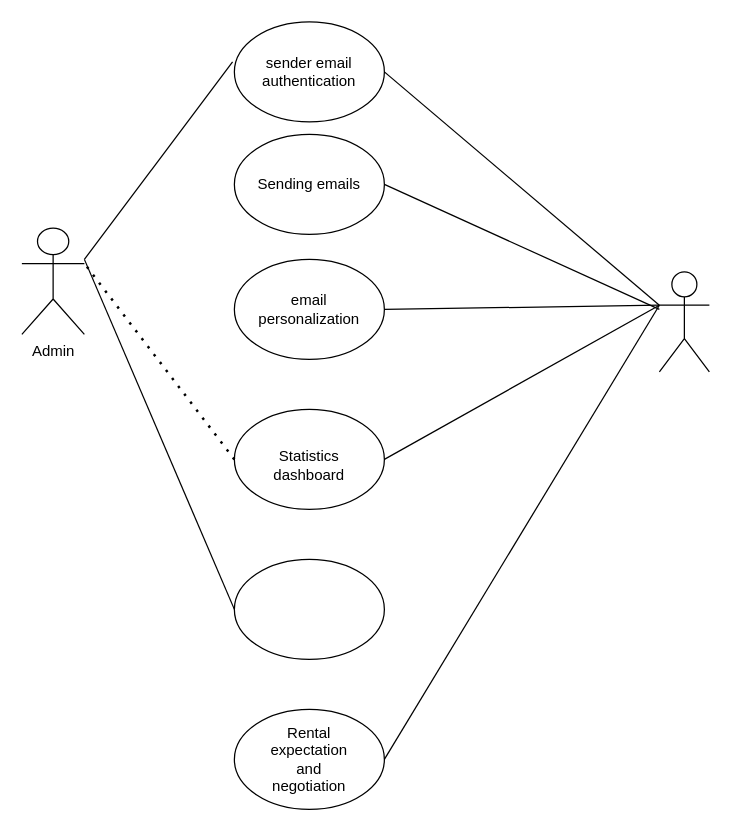
Some shapes in this 731 by 831 pixel diagram are drawn without their labels. Here are the shapes that lost their labels. From the top down, the centre of each, then its label:
the point at 683,321: User
the point at 308,608: bounce rate threshold
